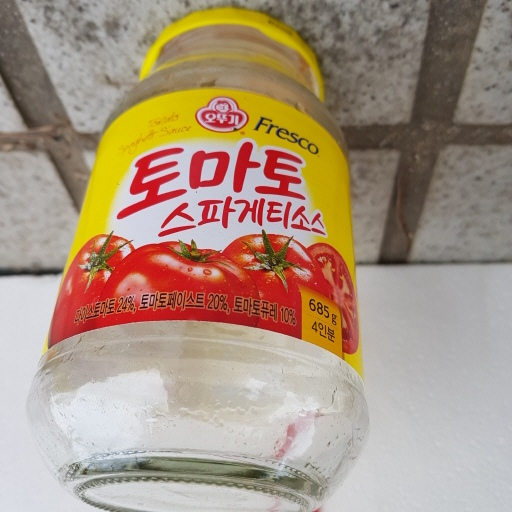Glass_5: (34, 7, 368, 512)
